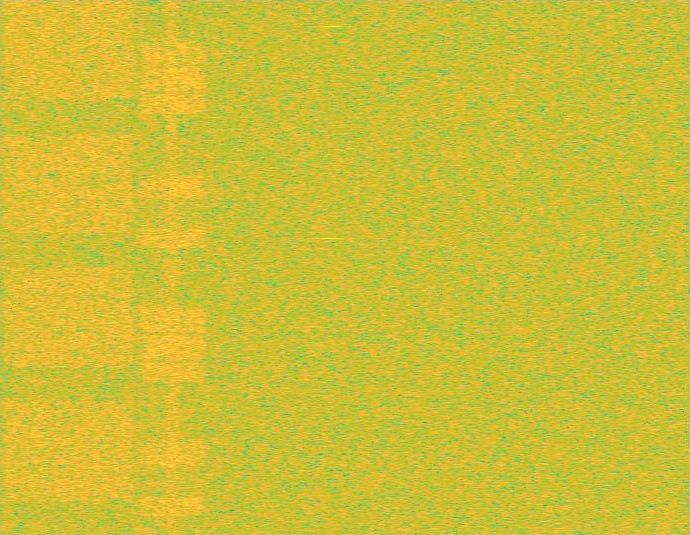5G: (0, 0, 138, 534)
DSSS: (165, 0, 180, 534)
LTE: (138, 0, 207, 534)
Radar: (325, 0, 339, 534)
